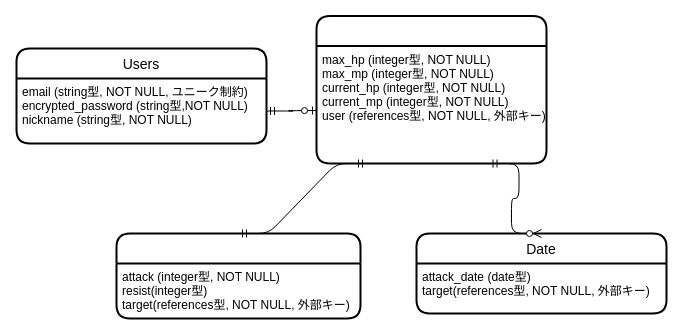
This 683x335 diagram has some shape labels left out. The box of each missing label's shape, as (x1, y1, x2, y2) in pixels:
Budgets: (115, 232, 361, 319)
Targets: (315, 14, 547, 164)
